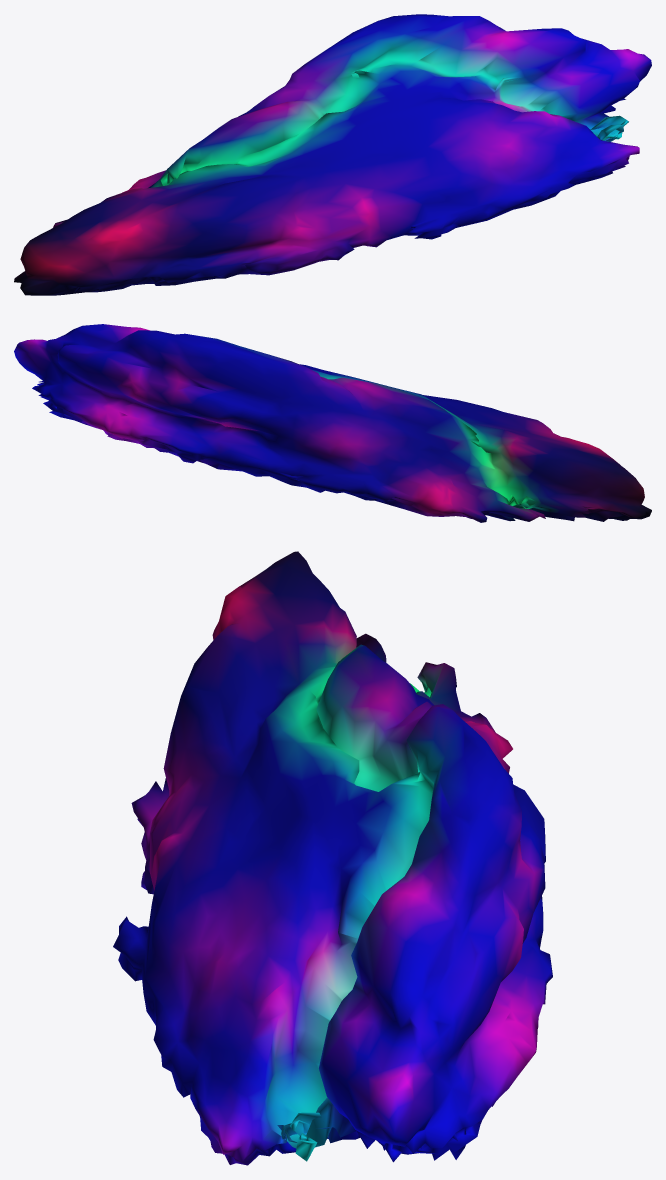
File: tin_vein-u6-cracked-lod0.gltf
The picture shows the model from 3 angles, top to bottom: view 1: azimuth 30°, elevation 25°; view 2: azimuth 150°, elevation 25°; view 3: azimuth 270°, elevation 25°; orthographic projection. The views are drawn at different scales.
Parts seen in each view (by area): view 1: tin_vein-u6-cracked-lod0; view 2: tin_vein-u6-cracked-lod0; view 3: tin_vein-u6-cracked-lod0.
Part boxes in pixels (<box>): tin_vein-u6-cracked-lod0: <box>14,14,651,295</box>; tin_vein-u6-cracked-lod0: <box>14,324,651,522</box>; tin_vein-u6-cracked-lod0: <box>113,551,552,1165</box>.
Size of the model in its own units: 2.48 by 0.4884 by 0.7776.
